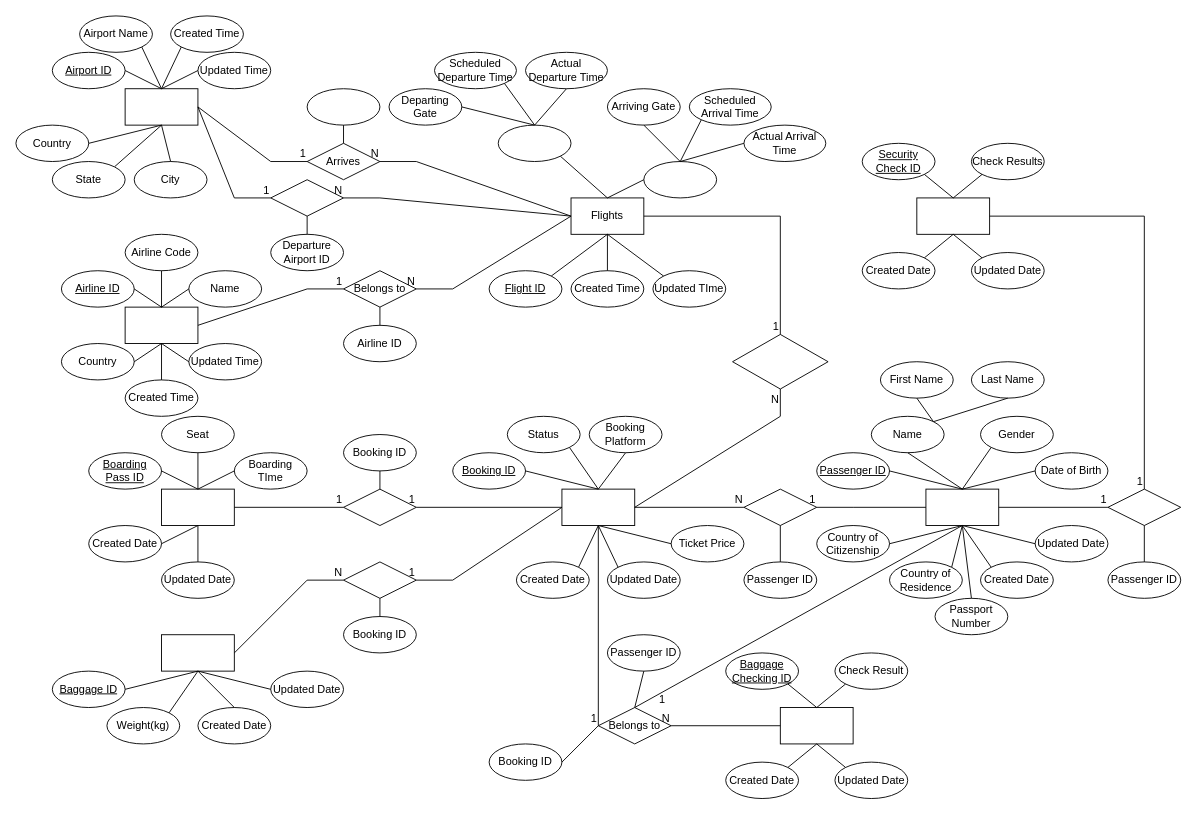
The diagram is 1197 pixels wide and 814 high, and some of its shapes have lost their labels. The shapes that lost their labels are listed below. From the top down, each one's box as (x1, y1, x2, y2) in pixels, then its label:
(124, 88, 198, 125): Airport
(306, 88, 380, 125): Arrival Airport ID
(497, 124, 571, 162): Departure Info
(270, 179, 344, 216): departs
(643, 161, 717, 198): Arrival Ifno
(916, 197, 990, 234): Security Check
(124, 306, 198, 344): Airline Companies
(732, 334, 828, 389): Reserves a seat
(161, 488, 234, 526): Boarding Passes
(343, 488, 416, 526): Generates
(561, 488, 635, 526): Bookings
(743, 488, 817, 526): make
(925, 488, 999, 526): Passengers
(1107, 488, 1181, 526): Passes
(343, 561, 416, 598): Register
(161, 634, 234, 671): Baggage
(779, 707, 853, 744): Baggage Check
